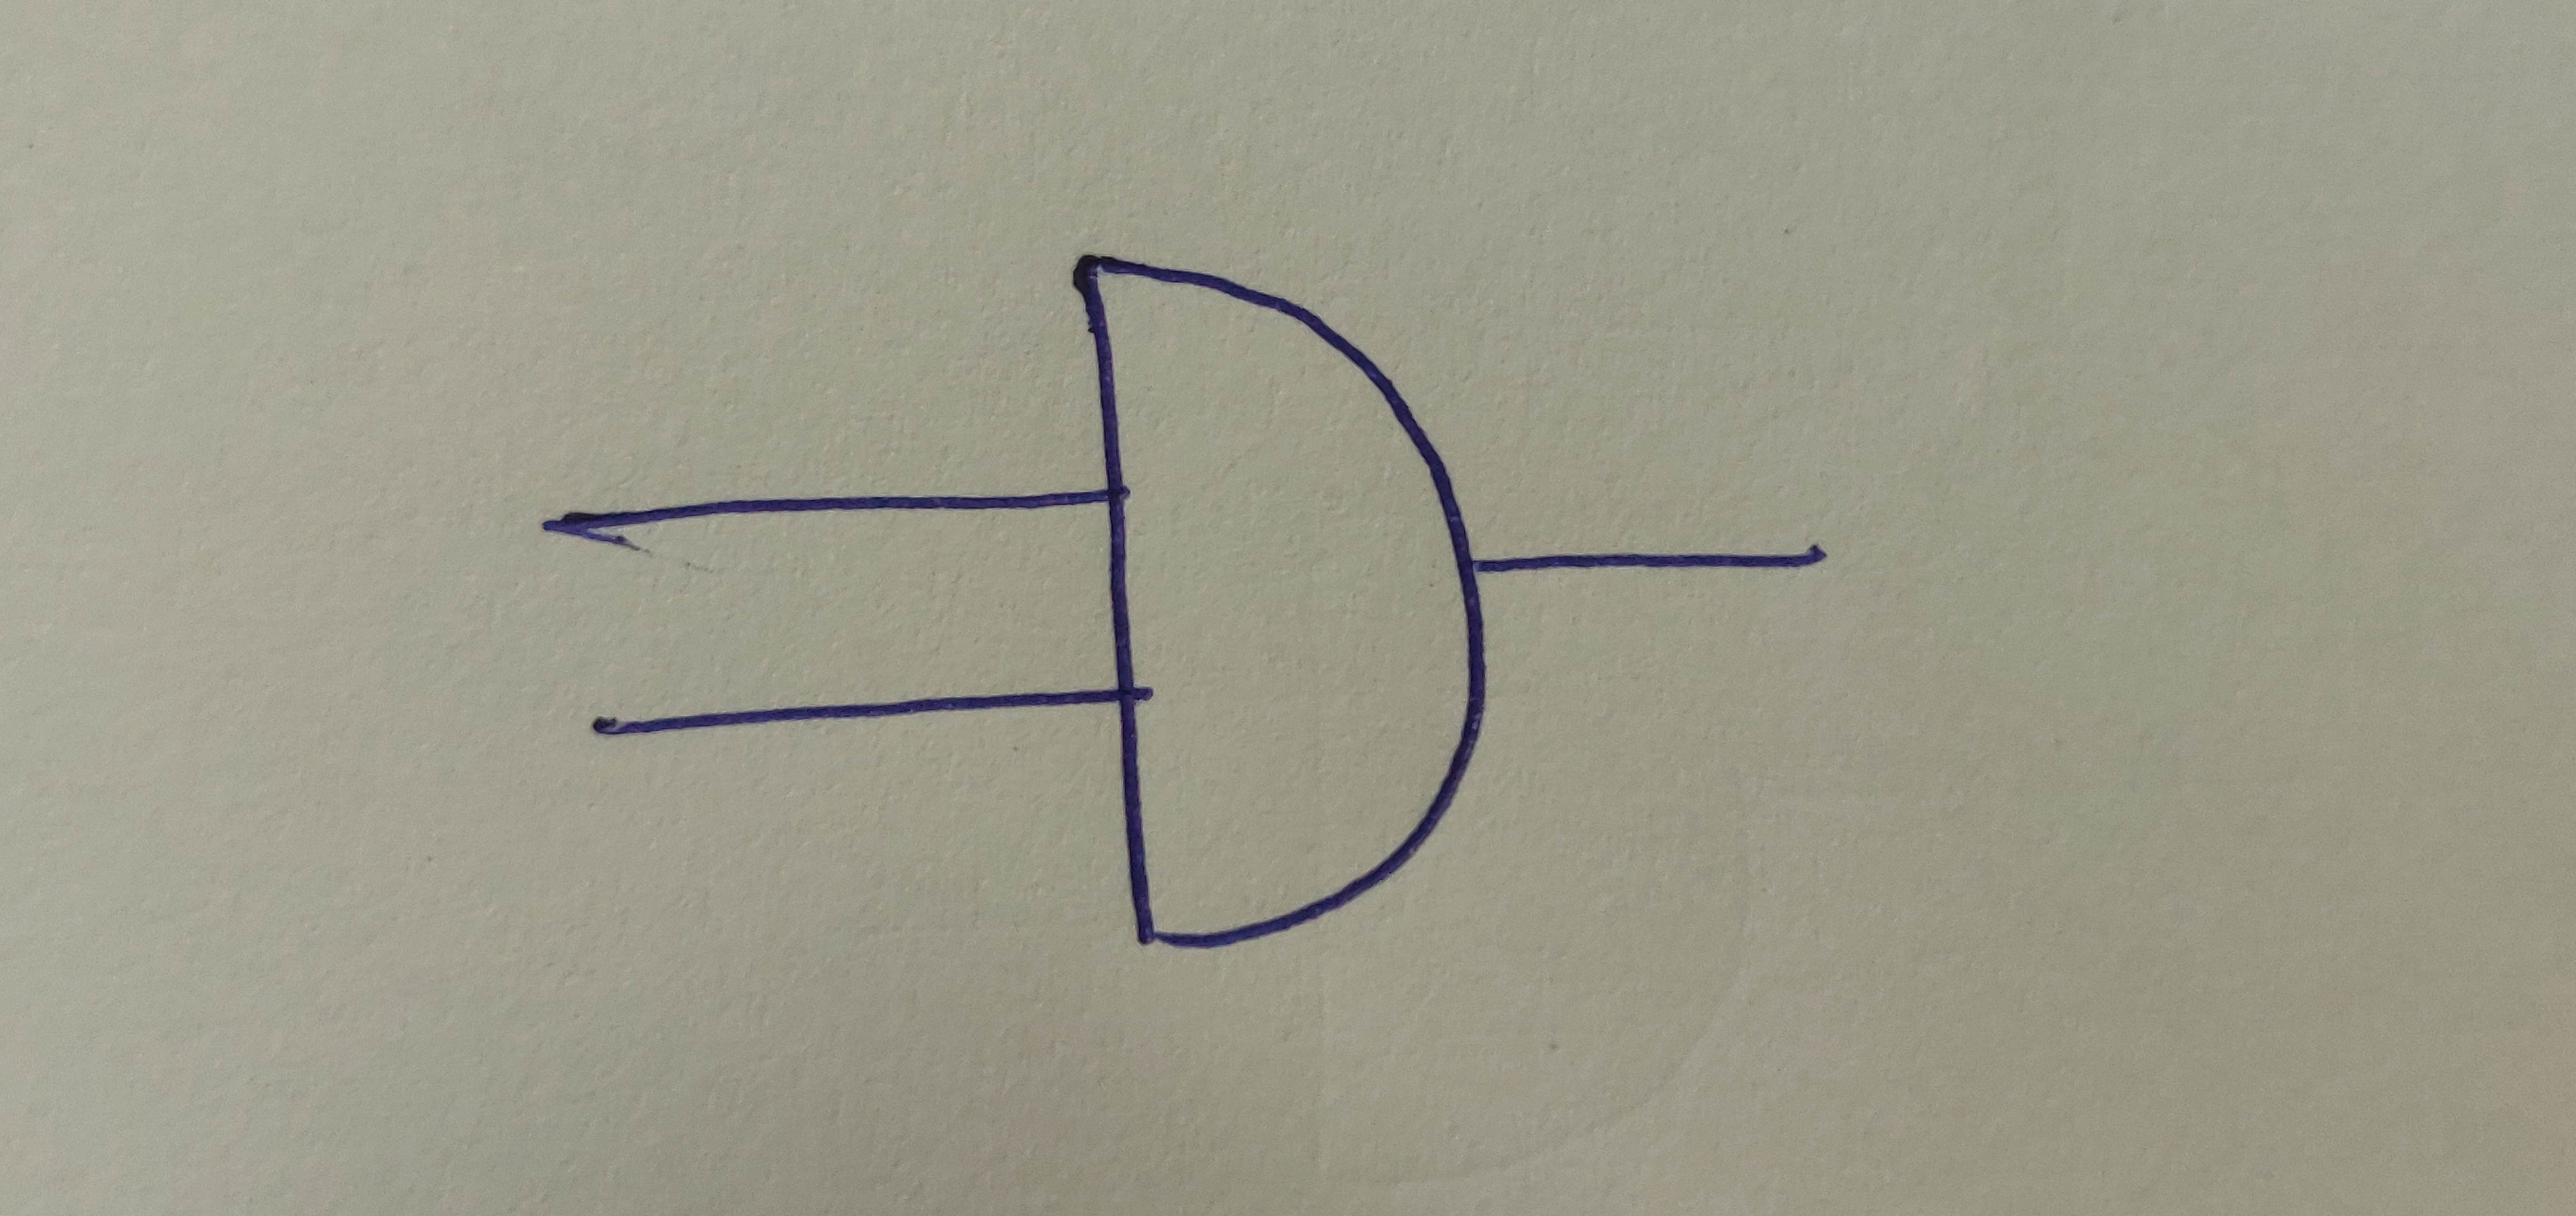and: (1066, 250, 1498, 951)
